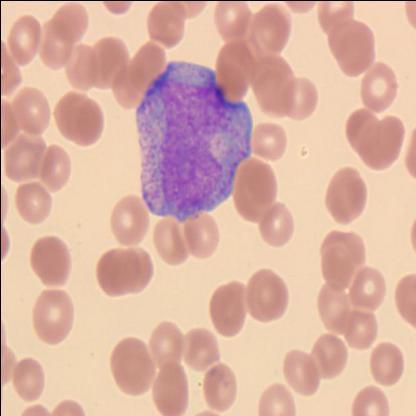Promyelocyte: (132, 61, 250, 224)
